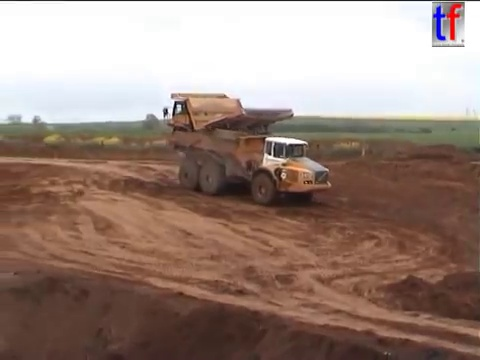bulldozer: (161, 91, 297, 159)
truck: (167, 125, 334, 207)
